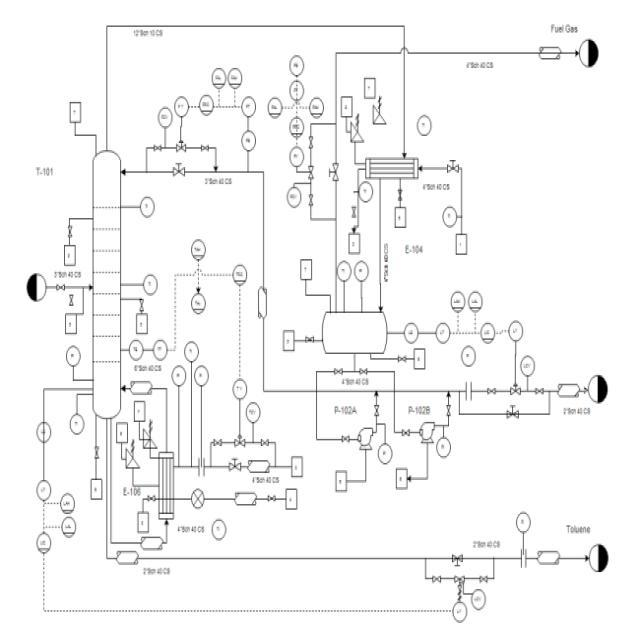Centrifugal Pump: (414, 417, 438, 449), (356, 425, 373, 453)
Gate Valve: (338, 429, 354, 453), (393, 183, 406, 206), (92, 442, 104, 466), (264, 488, 278, 506), (63, 222, 77, 240), (430, 572, 446, 587), (394, 350, 408, 367), (258, 434, 272, 450), (477, 574, 492, 588), (372, 400, 382, 420), (306, 163, 316, 181), (400, 426, 411, 442), (484, 384, 498, 396), (332, 366, 346, 378), (534, 385, 546, 398), (150, 141, 162, 154), (308, 189, 316, 208), (444, 402, 454, 417), (212, 434, 222, 448), (196, 141, 208, 152), (141, 297, 148, 315), (356, 366, 368, 376), (352, 203, 358, 220), (68, 294, 76, 306), (147, 493, 156, 503), (309, 134, 314, 152)
Hand Operated Gate Valve: (502, 398, 526, 428), (224, 453, 244, 476), (326, 158, 342, 184), (446, 548, 466, 568), (442, 154, 460, 176), (168, 160, 190, 178)
PSV: (114, 440, 146, 474), (368, 94, 388, 132), (348, 109, 366, 148), (140, 419, 159, 452)
Pneumatic-Diaphragm Gate Valve: (226, 430, 246, 450), (174, 136, 190, 154), (508, 381, 522, 398)
